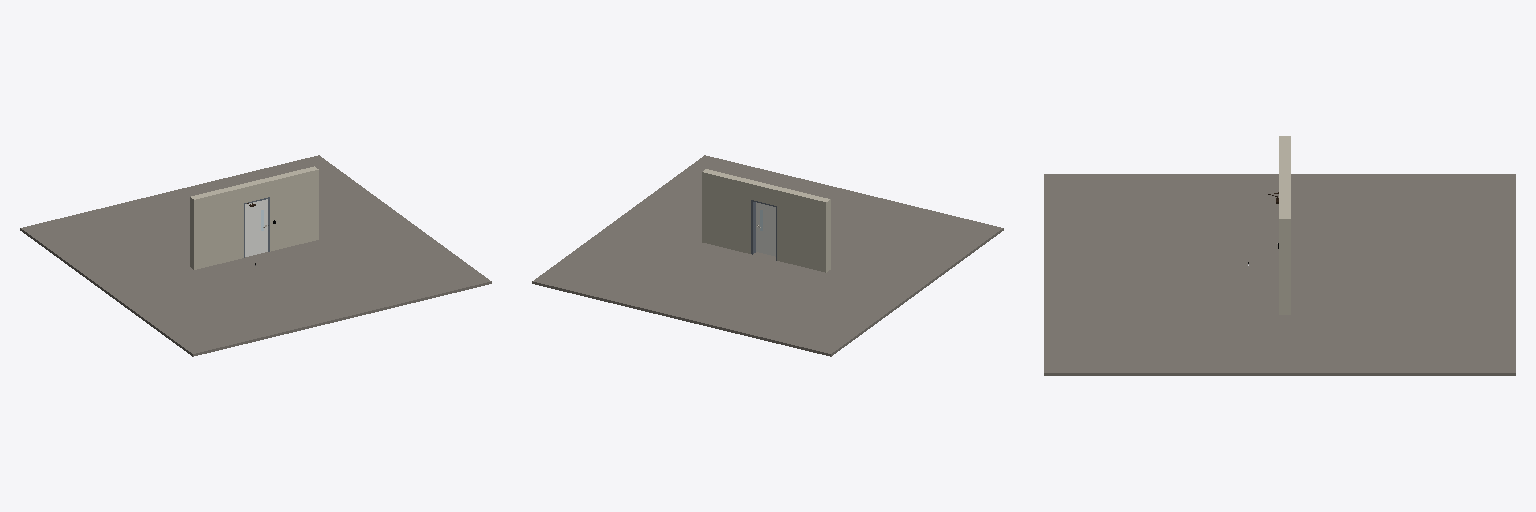
URDF robot description (db0438_swing_single_full):
<?xml version="1.0" ?>
<robot xmlns:doorbench="https://github.com/adamraudonis/DoorBench/schema/urdf-ext" name="db0438_swing_single_full">
  <link name="world_env">
    <visual name="floor_vis">
      <origin xyz="0 0 -0.05" rpy="0 0 0"/>
      <geometry>
        <box size="12 12 0.1"/>
      </geometry>
      <material name="mat_floor"/>
    </visual>
    <collision name="floor_col">
      <origin xyz="0 0 -0.05" rpy="0 0 0"/>
      <geometry>
        <box size="12 12 0.1"/>
      </geometry>
    </collision>
    <visual name="wall_left_vis">
      <origin xyz="-1.50525 0.121 1.35" rpy="0 0 0"/>
      <geometry>
        <box size="1.9895 0.3 2.7"/>
      </geometry>
      <material name="mat_wall"/>
    </visual>
    <collision name="wall_left_col">
      <origin xyz="-1.50525 0.121 1.35" rpy="0 0 0"/>
      <geometry>
        <box size="1.9895 0.3 2.7"/>
      </geometry>
    </collision>
    <visual name="wall_right_vis">
      <origin xyz="1.52025 0.121 1.35" rpy="0 0 0"/>
      <geometry>
        <box size="1.9595 0.3 2.7"/>
      </geometry>
      <material name="mat_wall"/>
    </visual>
    <collision name="wall_right_col">
      <origin xyz="1.52025 0.121 1.35" rpy="0 0 0"/>
      <geometry>
        <box size="1.9595 0.3 2.7"/>
      </geometry>
    </collision>
    <visual name="wall_header_vis">
      <origin xyz="0.015 0.121 2.4125" rpy="0 0 0"/>
      <geometry>
        <box size="1.051 0.3 0.575"/>
      </geometry>
      <material name="mat_wall"/>
    </visual>
    <collision name="wall_header_col">
      <origin xyz="0.015 0.121 2.4125" rpy="0 0 0"/>
      <geometry>
        <box size="1.051 0.3 0.575"/>
      </geometry>
    </collision>
    <visual name="hinge_0_jamb_vis">
      <origin xyz="-0.4575 -0.029 0.259" rpy="0 0 0"/>
      <geometry>
        <mesh filename="../../hardware/hinge_jamb_e1d088f8dc.obj"/>
      </geometry>
      <material name="mat_hinge"/>
    </visual>
    <visual name="hinge_1_jamb_vis">
      <origin xyz="-0.4575 -0.029 1.025" rpy="0 0 0"/>
      <geometry>
        <mesh filename="../../hardware/hinge_jamb_e1d088f8dc.obj"/>
      </geometry>
      <material name="mat_hinge"/>
    </visual>
    <visual name="hinge_2_jamb_vis">
      <origin xyz="-0.4575 -0.029 1.861" rpy="0 0 0"/>
      <geometry>
        <mesh filename="../../hardware/hinge_jamb_e1d088f8dc.obj"/>
      </geometry>
      <material name="mat_hinge"/>
    </visual>
    <visual name="jamb_hinge_vis">
      <origin xyz="-0.4855 0.121 1.0225" rpy="0 0 0"/>
      <geometry>
        <box size="0.05 0.3 2.045"/>
      </geometry>
      <material name="mat_frame"/>
    </visual>
    <collision name="jamb_hinge_col">
      <origin xyz="-0.4855 0.121 1.0225" rpy="0 0 0"/>
      <geometry>
        <box size="0.05 0.3 2.045"/>
      </geometry>
    </collision>
    <visual name="strike_1016_wall_n_vis">
      <origin xyz="0.5005 0.14025 1.016" rpy="0 0 0"/>
      <geometry>
        <box size="0.08 0.2615 0.036"/>
      </geometry>
      <material name="mat_frame"/>
    </visual>
    <collision name="strike_1016_wall_n_col">
      <origin xyz="0.5005 0.14025 1.016" rpy="0 0 0"/>
      <geometry>
        <box size="0.08 0.2615 0.036"/>
      </geometry>
    </collision>
    <visual name="strike_1016_wall_p_vis">
      <origin xyz="0.5005 -0.0175 1.016" rpy="0 0 0"/>
      <geometry>
        <box size="0.08 0.016 0.036"/>
      </geometry>
      <material name="mat_frame"/>
    </visual>
    <collision name="strike_1016_wall_p_col">
      <origin xyz="0.5005 -0.0175 1.016" rpy="0 0 0"/>
      <geometry>
        <box size="0.08 0.016 0.036"/>
      </geometry>
    </collision>
    <visual name="strike_1016_ramp_vis">
      <origin xyz="0.503782 -0.018312 1.016" rpy="0 0 0.588003"/>
      <geometry>
        <box size="0.08 0.036056 0.036"/>
      </geometry>
      <material name="mat_frame"/>
    </visual>
    <collision name="strike_1016_ramp_col">
      <origin xyz="0.503782 -0.018312 1.016" rpy="0 0 0.588003"/>
      <geometry>
        <box size="0.08 0.036056 0.036"/>
      </geometry>
    </collision>
    <visual name="strike_1016_back_vis">
      <origin xyz="0.512 0 1.016" rpy="0 0 0"/>
      <geometry>
        <box size="0.057 0.019 0.036"/>
      </geometry>
      <material name="mat_frame"/>
    </visual>
    <collision name="strike_1016_back_col">
      <origin xyz="0.512 0 1.016" rpy="0 0 0"/>
      <geometry>
        <box size="0.057 0.019 0.036"/>
      </geometry>
    </collision>
    <visual name="jamb_strike_0_vis">
      <origin xyz="0.5005 0.121 0.499" rpy="0 0 0"/>
      <geometry>
        <box size="0.08 0.3 0.998"/>
      </geometry>
      <material name="mat_frame"/>
    </visual>
    <collision name="jamb_strike_0_col">
      <origin xyz="0.5005 0.121 0.499" rpy="0 0 0"/>
      <geometry>
        <box size="0.08 0.3 0.998"/>
      </geometry>
    </collision>
    <visual name="jamb_strike_1_vis">
      <origin xyz="0.5005 0.121 1.5395" rpy="0 0 0"/>
      <geometry>
        <box size="0.08 0.3 1.011"/>
      </geometry>
      <material name="mat_frame"/>
    </visual>
    <collision name="jamb_strike_1_col">
      <origin xyz="0.5005 0.121 1.5395" rpy="0 0 0"/>
      <geometry>
        <box size="0.08 0.3 1.011"/>
      </geometry>
    </collision>
    <visual name="jamb_head_vis">
      <origin xyz="0.015 0.121 2.07" rpy="0 0 0"/>
      <geometry>
        <box size="1.051 0.3 0.05"/>
      </geometry>
      <material name="mat_frame"/>
    </visual>
    <collision name="jamb_head_col">
      <origin xyz="0.015 0.121 2.07" rpy="0 0 0"/>
      <geometry>
        <box size="1.051 0.3 0.05"/>
      </geometry>
    </collision>
    <visual name="head_stud_vis">
      <origin xyz="0.015 0.121 2.11" rpy="0 0 0"/>
      <geometry>
        <box size="1.051 0.3 0.03"/>
      </geometry>
      <material name="mat_wall"/>
    </visual>
    <collision name="head_stud_col">
      <origin xyz="0.015 0.121 2.11" rpy="0 0 0"/>
      <geometry>
        <box size="1.051 0.3 0.03"/>
      </geometry>
    </collision>
    <visual name="stop_hinge_vis">
      <origin xyz="-0.455 0.0385 1.0225" rpy="0 0 0"/>
      <geometry>
        <box size="0.011 0.032 2.045"/>
      </geometry>
      <material name="mat_frame"/>
    </visual>
    <collision name="stop_hinge_col">
      <origin xyz="-0.455 0.0385 1.0225" rpy="0 0 0"/>
      <geometry>
        <box size="0.011 0.032 2.045"/>
      </geometry>
    </collision>
    <visual name="stop_strike_vis">
      <origin xyz="0.455 0.0385 1.0225" rpy="0 0 0"/>
      <geometry>
        <box size="0.011 0.032 2.045"/>
      </geometry>
      <material name="mat_frame"/>
    </visual>
    <collision name="stop_strike_col">
      <origin xyz="0.455 0.0385 1.0225" rpy="0 0 0"/>
      <geometry>
        <box size="0.011 0.032 2.045"/>
      </geometry>
    </collision>
    <visual name="stop_head_vis">
      <origin xyz="0 0.0385 2.0395" rpy="0 0 0"/>
      <geometry>
        <box size="0.921 0.032 0.011"/>
      </geometry>
      <material name="mat_frame"/>
    </visual>
    <collision name="stop_head_col">
      <origin xyz="0 0.0385 2.0395" rpy="0 0 0"/>
      <geometry>
        <box size="0.921 0.032 0.011"/>
      </geometry>
    </collision>
    <visual name="seal_hinge_vis">
      <origin xyz="-0.4575 0.024 1.0225" rpy="0 0 0"/>
      <geometry>
        <box size="0.008 0.004 2.045"/>
      </geometry>
      <material name="mat_seal"/>
    </visual>
    <visual name="seal_strike_vis">
      <origin xyz="0.4575 0.024 1.0225" rpy="0 0 0"/>
      <geometry>
        <box size="0.008 0.004 2.045"/>
      </geometry>
      <material name="mat_seal"/>
    </visual>
    <visual name="seal_head_vis">
      <origin xyz="0 0.024 2.033" rpy="0 0 0"/>
      <geometry>
        <box size="0.881 0.004 0.016"/>
      </geometry>
      <material name="mat_seal"/>
    </visual>
    <visual name="closer_bracket_vis">
      <origin xyz="-0.3605 -0.041 2.075" rpy="0 0 0"/>
      <geometry>
        <box size="0.06 0.024 0.028"/>
      </geometry>
      <material name="mat_closer"/>
    </visual>
    <visual name="wall_reader_vis">
      <origin xyz="0.7105 -0.044 1.1" rpy="0 0 0"/>
      <geometry>
        <box size="0.08 0.03 0.12"/>
      </geometry>
      <material name="mat_wallreader"/>
    </visual>
    <collision name="wall_reader_col">
      <origin xyz="0.7105 -0.044 1.1" rpy="0 0 0"/>
      <geometry>
        <box size="0.08 0.03 0.12"/>
      </geometry>
    </collision>
    <visual name="door_stop_base_vis">
      <origin xyz="-0.4735 -0.8059 0.003" rpy="0 0 0"/>
      <geometry>
        <cylinder radius="0.022" length="0.006"/>
      </geometry>
      <material name="mat_stop_base"/>
    </visual>
    <collision name="door_stop_base_col">
      <origin xyz="-0.4735 -0.8059 0.003" rpy="0 0 0"/>
      <geometry>
        <cylinder radius="0.022" length="0.006"/>
      </geometry>
    </collision>
    <visual name="door_stop_post_vis">
      <origin xyz="-0.4735 -0.8059 0.0305" rpy="0 0 0"/>
      <geometry>
        <cylinder radius="0.012" length="0.049"/>
      </geometry>
      <material name="mat_stop_base"/>
    </visual>
    <collision name="door_stop_post_col">
      <origin xyz="-0.4735 -0.8059 0.0305" rpy="0 0 0"/>
      <geometry>
        <cylinder radius="0.012" length="0.049"/>
      </geometry>
    </collision>
    <visual name="door_stop_bumper_vis">
      <origin xyz="-0.4735 -0.8059 0.075" rpy="0 0 0"/>
      <geometry>
        <cylinder radius="0.022" length="0.04"/>
      </geometry>
      <material name="mat_bumper_stop"/>
    </visual>
    <collision name="door_stop_bumper_col">
      <origin xyz="-0.4735 -0.8059 0.075" rpy="0 0 0"/>
      <geometry>
        <cylinder radius="0.022" length="0.04"/>
      </geometry>
    </collision>
  </link>
  <link name="leaf">
    <inertial>
      <origin xyz="0.429657 0.020297 1.15218" rpy="0 0 0"/>
      <mass value="57.23918"/>
      <inertia ixx="22.905109381" ixy="-0.069813373" ixz="0.970116195" iyy="26.60168121" iyz="0.387321607" izz="3.7729124"/>
    </inertial>
    <visual name="leaf_slab_vis">
      <origin xyz="0.457 0.029 1.025" rpy="0 0 0"/>
      <geometry>
        <box size="0.914 0.044 2.032"/>
      </geometry>
      <material name="mat_leaf"/>
    </visual>
    <collision name="leaf_slab_col">
      <origin xyz="0.457 0.029 1.025" rpy="0 0 0"/>
      <geometry>
        <box size="0.914 0.044 2.032"/>
      </geometry>
    </collision>
    <visual name="leaf_glass_0_vis">
      <origin xyz="0.70846 0.029 1.26884" rpy="0 0 0"/>
      <geometry>
        <box size="0.15 0.0456 0.8128"/>
      </geometry>
      <material name="mat_glass"/>
    </visual>
    <visual name="hinge_0_vis">
      <origin xyz="0 0 0.259" rpy="0 0 0"/>
      <geometry>
        <mesh filename="../../hardware/hinge_e22b26c0c1.obj"/>
      </geometry>
      <material name="mat_hinge"/>
    </visual>
    <visual name="hinge_1_vis">
      <origin xyz="0 0 1.025" rpy="0 0 0"/>
      <geometry>
        <mesh filename="../../hardware/hinge_e22b26c0c1.obj"/>
      </geometry>
      <material name="mat_hinge"/>
    </visual>
    <visual name="hinge_2_vis">
      <origin xyz="0 0 1.861" rpy="0 0 0"/>
      <geometry>
        <mesh filename="../../hardware/hinge_e22b26c0c1.obj"/>
      </geometry>
      <material name="mat_hinge"/>
    </visual>
    <visual name="leaf_latch_bolt_faceplate_vis">
      <origin xyz="0.9134 0.029 1.016" rpy="0 0 0"/>
      <geometry>
        <box size="0.0012 0.028 0.056"/>
      </geometry>
      <material name="mat_bolt"/>
    </visual>
    <visual name="closer_body_vis">
      <origin xyz="0.297 0.007 1.952" rpy="1.570796 0 0"/>
      <geometry>
        <mesh filename="../../hardware/closer_body_b226fdb10b.obj"/>
      </geometry>
      <material name="mat_closer"/>
    </visual>
    <collision name="closer_body_col_col">
      <origin xyz="0.297 -0.033 1.952" rpy="0 0 0"/>
      <geometry>
        <box size="0.24 0.08 0.06"/>
      </geometry>
    </collision>
    <visual name="closer_pinion_shaft_vis">
      <origin xyz="0.297 -0.035 2.0135" rpy="0 0 0"/>
      <geometry>
        <cylinder radius="0.008" length="0.123"/>
      </geometry>
      <material name="mat_closer"/>
    </visual>
  </link>
  <link name="leaf_handle">
    <inertial>
      <origin xyz="-0.028544 0 0" rpy="0 0 0"/>
      <mass value="0.978187"/>
      <inertia ixx="0.003604455" ixy="0" ixz="0" iyy="0.001772047" iyz="0" izz="0.005198299"/>
    </inertial>
    <visual name="leaf_handle_spindle_vis">
      <origin xyz="0 0 0" rpy="-1.570796 0 0"/>
      <geometry>
        <cylinder radius="0.006" length="0.06"/>
      </geometry>
      <material name="mat_op_nickel_satin"/>
    </visual>
    <visual name="leaf_handle_lever_n_vis">
      <origin xyz="0 -0.022 0" rpy="1.570796 0 0"/>
      <geometry>
        <mesh filename="../../hardware/lever_9f02b544cf.obj"/>
      </geometry>
      <material name="mat_op_nickel_satin"/>
    </visual>
    <collision name="leaf_handle_lever_col_n_col">
      <origin xyz="-0.0625 -0.077 0" rpy="0 -1.570796 0"/>
      <geometry>
        <cylinder radius="0.0095" length="0.106"/>
      </geometry>
    </collision>
    <collision name="leaf_handle_hub_col_n_col">
      <origin xyz="0 -0.052 0" rpy="-1.570796 0 0"/>
      <geometry>
        <cylinder radius="0.012" length="0.044"/>
      </geometry>
    </collision>
    <visual name="leaf_handle_lever_p_vis">
      <origin xyz="0 0.022 0" rpy="-1.570796 0 0"/>
      <geometry>
        <mesh filename="../../hardware/lever_9f02b544cf.obj"/>
      </geometry>
      <material name="mat_op_nickel_satin"/>
    </visual>
    <collision name="leaf_handle_lever_col_p_col">
      <origin xyz="-0.0625 0.077 0" rpy="0 -1.570796 0"/>
      <geometry>
        <cylinder radius="0.0095" length="0.106"/>
      </geometry>
    </collision>
    <collision name="leaf_handle_hub_col_p_col">
      <origin xyz="0 0.052 0" rpy="-1.570796 0 0"/>
      <geometry>
        <cylinder radius="0.012" length="0.044"/>
      </geometry>
    </collision>
  </link>
  <link name="leaf_latch_bolt">
    <inertial>
      <origin xyz="-0.0055 0 0" rpy="0 0 0"/>
      <mass value="0.074627"/>
      <inertia ixx="0.000002271" ixy="0" ixz="0" iyy="0.000013255" iyz="0" izz="0.000013255"/>
    </inertial>
    <visual name="leaf_latch_bolt_capsule_vis">
      <origin xyz="-0.0055 0 0" rpy="0 1.570796 0"/>
      <geometry>
        <cylinder radius="0.008" length="0.033"/>
      </geometry>
      <material name="mat_bolt"/>
    </visual>
    <collision name="leaf_latch_bolt_capsule_col">
      <origin xyz="-0.0055 0 0" rpy="0 1.570796 0"/>
      <geometry>
        <cylinder radius="0.008" length="0.033"/>
      </geometry>
    </collision>
  </link>
  <link name="closer_arm_main">
    <inertial>
      <origin xyz="0.14 0 0" rpy="0 0 0"/>
      <mass value="0.12096"/>
      <inertia ixx="0.000003588" ixy="0" ixz="0" iyy="0.00079128" iyz="0" izz="0.000792852"/>
    </inertial>
    <visual name="closer_arm_main_geom_vis">
      <origin xyz="0.14 0 0" rpy="0 0 0"/>
      <geometry>
        <box size="0.28 0.016 0.01"/>
      </geometry>
      <material name="mat_closer"/>
    </visual>
  </link>
  <link name="closer_arm_fore">
    <inertial>
      <origin xyz="0.128088 0 0" rpy="0 0 0"/>
      <mass value="0.076531"/>
      <inertia ixx="0.000001771" ixy="0" ixz="0" iyy="0.000437665" iyz="0" izz="0.000438201"/>
    </inertial>
    <visual name="closer_arm_fore_geom_vis">
      <origin xyz="0.1125 0 0" rpy="0 0 0"/>
      <geometry>
        <box size="0.225 0.014 0.008"/>
      </geometry>
      <material name="mat_closer"/>
    </visual>
    <visual name="closer_fore_neck_vis">
      <origin xyz="0.2425 0 0" rpy="0 0 0"/>
      <geometry>
        <box size="0.035 0.006 0.006"/>
      </geometry>
      <material name="mat_closer"/>
    </visual>
    <visual name="closer_fore_pivot_vis">
      <origin xyz="0.26 0 0" rpy="0 0 0"/>
      <geometry>
        <cylinder radius="0.005" length="0.024"/>
      </geometry>
      <material name="mat_closer"/>
    </visual>
  </link>
  <joint name="leaf_hinge" type="revolute">
    <origin xyz="-0.4575 -0.029 0" rpy="0 0 0"/>
    <parent link="world_env"/>
    <child link="leaf"/>
    <axis xyz="0 0 -1"/>
    <limit lower="0" upper="1.570796" effort="2000" velocity="10"/>
    <dynamics damping="10.25611" friction="0.582512"/>
    <doorbench:spring stiffness="10.994423" springref="-2.062864" note="tau = -stiffness*(q - springref); not native URDF"/>
    <doorbench:closer damping_closing="70" damping_opening="10" backcheck_angle="1.31" backcheck_damping="45"/>
  </joint>
  <joint name="leaf_handle_hinge" type="revolute">
    <origin xyz="0.844 0.029 1.016" rpy="0 0 0"/>
    <parent link="leaf"/>
    <child link="leaf_handle"/>
    <axis xyz="0 -1 0"/>
    <limit lower="0" upper="0.05" effort="2000" velocity="10"/>
    <dynamics damping="0.245624" friction="0.048"/>
    <doorbench:spring stiffness="1.2" springref="-0.458333" note="tau = -stiffness*(q - springref); not native URDF"/>
    <doorbench:note text="locked: range limited to backlash"/>
  </joint>
  <joint name="leaf_latch_bolt_slide" type="prismatic">
    <origin xyz="0.914 0.029 1.016" rpy="0 0 0"/>
    <parent link="leaf"/>
    <child link="leaf_latch_bolt"/>
    <axis xyz="-1 0 0"/>
    <limit lower="0" upper="0.019" effort="5000" velocity="10"/>
    <dynamics damping="2" friction="0.3"/>
    <doorbench:spring stiffness="550" springref="-0.01" note="tau = -stiffness*(q - springref); not native URDF"/>
    <mimic joint="leaf_handle_hinge" multiplier="0.020879" offset="0"/>
    <doorbench:coupling one_sided="true" note="MJCF uses a one-sided tendon (bolt may retract further, e.g. riding over the strike lip); mimic is bilateral"/>
  </joint>
  <joint name="closer_pinion" type="continuous">
    <origin xyz="0.297 -0.035 2.075" rpy="0 0 -2.157996"/>
    <parent link="leaf"/>
    <child link="closer_arm_main"/>
    <axis xyz="0 0 1"/>
    <dynamics damping="0.01" friction="0"/>
  </joint>
  <joint name="closer_elbow" type="continuous">
    <origin xyz="0.28 0 0" rpy="0 0 -2.380944"/>
    <parent link="closer_arm_main"/>
    <child link="closer_arm_fore"/>
    <axis xyz="0 0 1"/>
    <dynamics damping="0.01" friction="0"/>
  </joint>
  <material name="mat_bolt">
    <color rgba="0.75 0.76 0.77 1"/>
  </material>
  <material name="mat_bumper_stop">
    <color rgba="0.08 0.08 0.08 1"/>
  </material>
  <material name="mat_closer">
    <color rgba="0.22 0.17 0.13 1"/>
  </material>
  <material name="mat_floor">
    <color rgba="0.55 0.53 0.5 1"/>
  </material>
  <material name="mat_frame">
    <color rgba="0.45 0.48 0.52 1"/>
  </material>
  <material name="mat_glass">
    <color rgba="0.85 0.92 0.95 0.25"/>
  </material>
  <material name="mat_hinge">
    <color rgba="0.65 0.66 0.68 1"/>
  </material>
  <material name="mat_leaf">
    <color rgba="0.93 0.93 0.91 1"/>
  </material>
  <material name="mat_op_nickel_satin">
    <color rgba="0.72 0.7 0.66 1"/>
  </material>
  <material name="mat_seal">
    <color rgba="0.1 0.1 0.1 1"/>
  </material>
  <material name="mat_stop_base">
    <color rgba="0.9 0.9 0.92 1"/>
  </material>
  <material name="mat_wall">
    <color rgba="0.78 0.76 0.7 1"/>
  </material>
  <material name="mat_wallreader">
    <color rgba="0.05 0.05 0.05 1"/>
  </material>
  <doorbench:loop_closure body1="closer_arm_fore" body2="world" anchor="0.26 0 0" label="Closer forearm pinned to frame shoe"/>
</robot>

--- Facts derived from the render (not from the file) ---
Views: 3 orthographic renders of the robot side by side, from view 1: azimuth 30°, elevation 25°; view 2: azimuth 150°, elevation 25°; view 3: azimuth 270°, elevation 25°.
Robot: db0438_swing_single_full — 6 links, 5 joints (2 revolute, 2 continuous, 1 prismatic); root link world_env; default pose: all joints at 0.
Links seen in each view (by area): view 1: world_env, leaf; view 2: world_env, leaf; view 3: world_env.
Link boxes in pixels (x1,y1,x2,y2): world_env: [20, 155, 491, 356]; leaf: [245, 199, 267, 256]; world_env: [532, 155, 1003, 356]; leaf: [756, 202, 775, 256]; world_env: [1044, 136, 1515, 375].
Size in the robot's own frame: 12 by 12 by 2.8 metres.
9 mesh visuals loaded from 4 distinct referenced files (4 OBJ).
